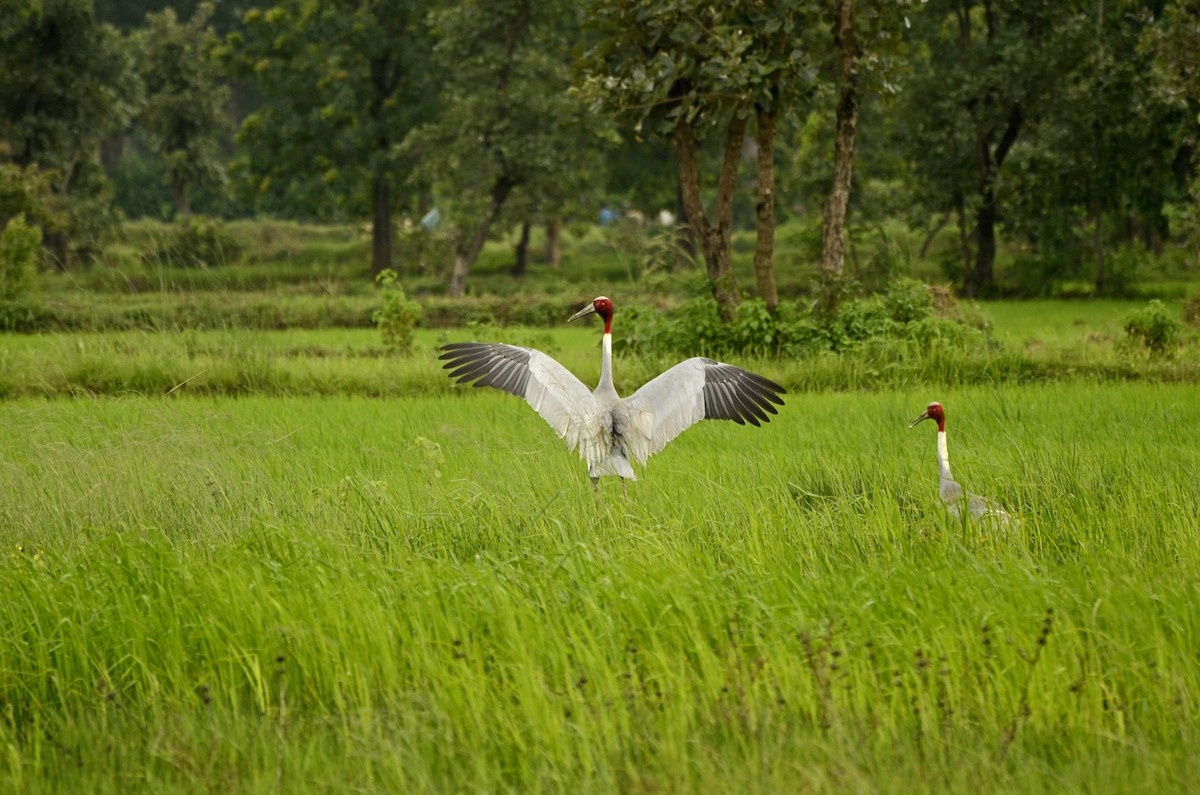crane: (435, 285, 806, 496), (910, 395, 973, 501)
